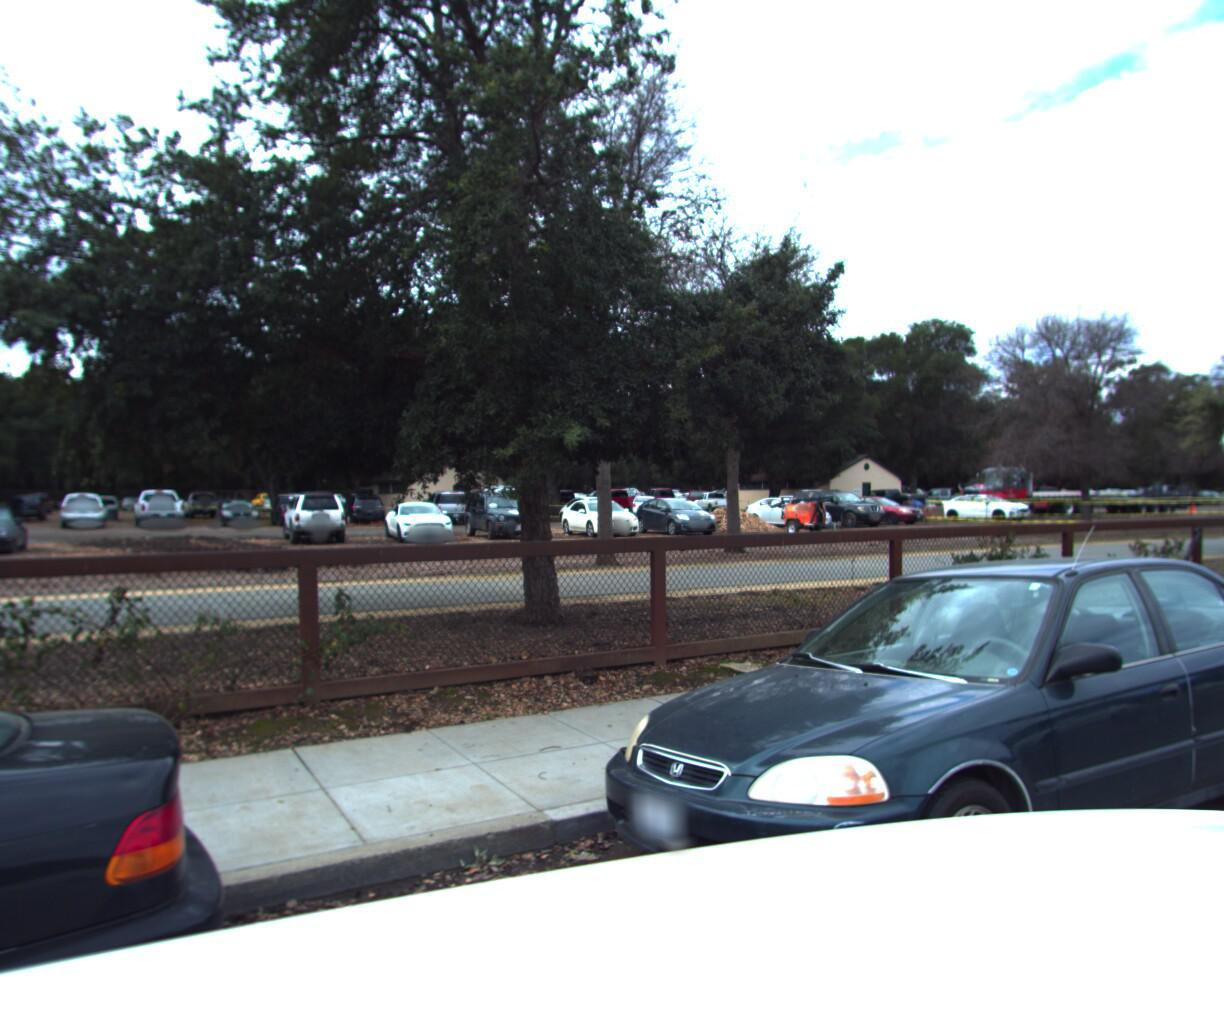car: (531, 515, 1224, 1024)
other_vehicle: (1156, 266, 1224, 750)
